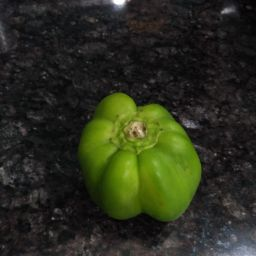Bell pepper: (51, 83, 218, 236)
